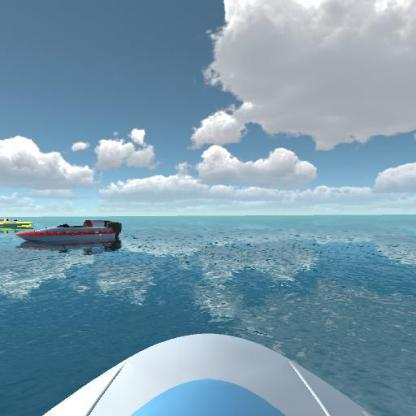usv2: (0, 212, 35, 234)
usv3: (16, 216, 126, 256)
